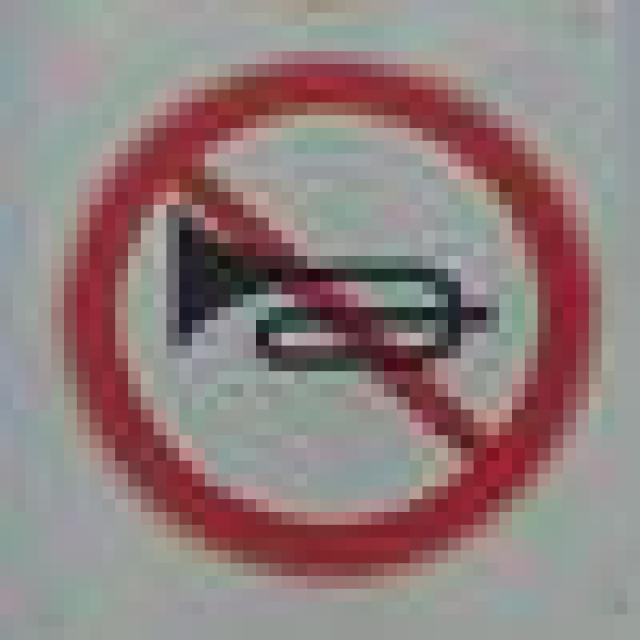HORN_PROHIBITED: (38, 38, 589, 576)
